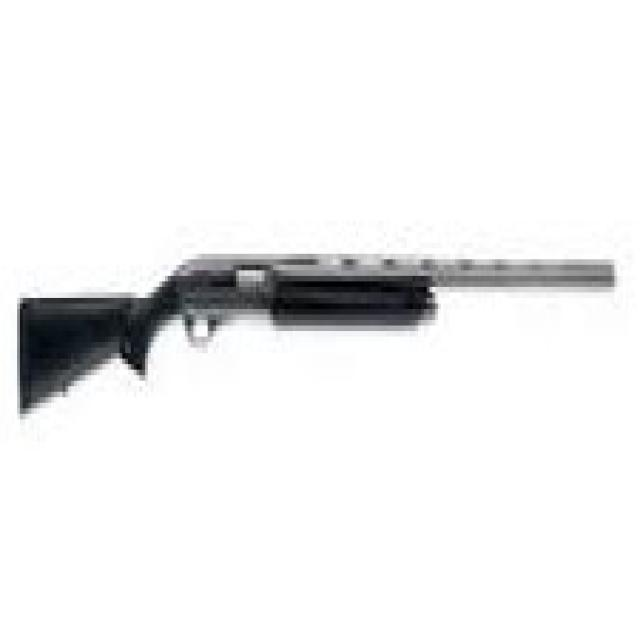rifle: (12, 241, 625, 431)
